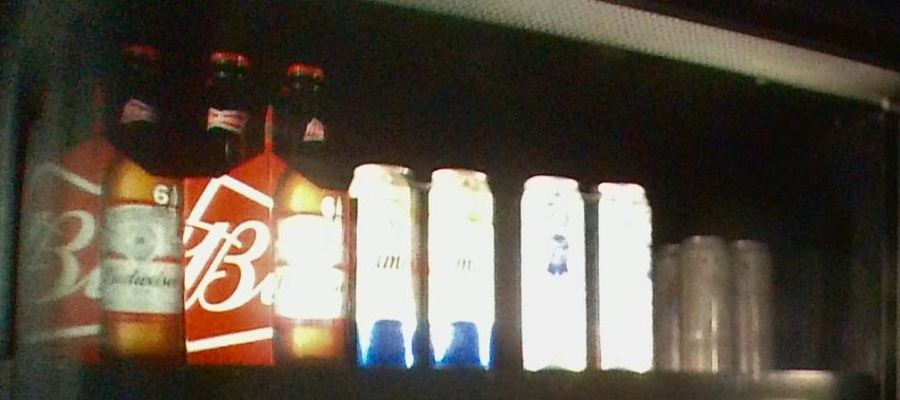bottle: (184, 52, 351, 372), (24, 40, 182, 367), (350, 163, 499, 370), (517, 174, 659, 372), (679, 227, 783, 375)
